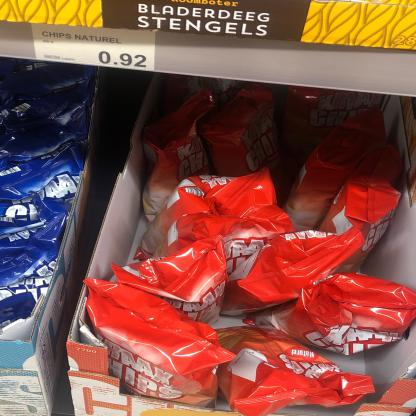prtg: (31, 24, 157, 72)
